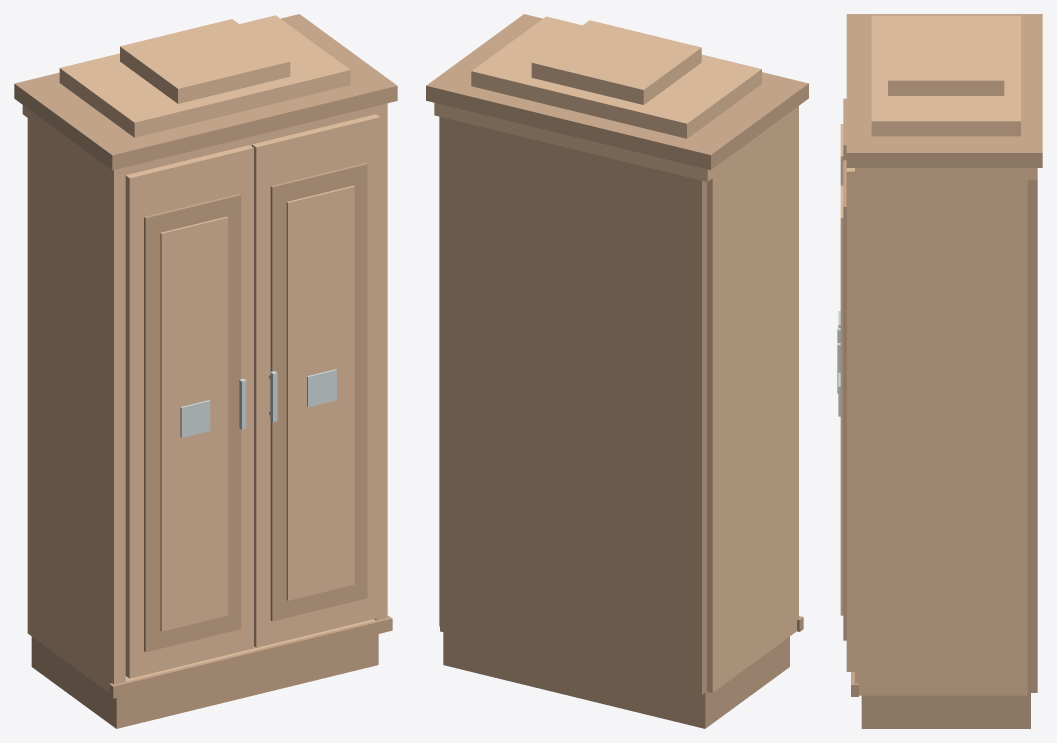
File: armoireCarved.glb
3 renders of one model, left to right at view 1: azimuth 30°, elevation 25°; view 2: azimuth 150°, elevation 25°; view 3: azimuth 270°, elevation 25°, orthographic.
Parts seen in each view (by area): view 1: armoireCarved, anim:doorL, anim:doorR; view 2: armoireCarved; view 3: armoireCarved, anim:doorR, anim:doorL.
Part boxes in pixels (x1,y1,x2,y2): armoireCarved: (14,14,397,728); anim:doorL: (125,145,253,678); anim:doorR: (252,114,380,647); armoireCarved: (426,14,808,728); armoireCarved: (846,14,1042,728); anim:doorR: (837,160,854,671); anim:doorL: (837,98,846,342).
Size of the model in its own units: 0.495 by 1.01 by 0.309.
